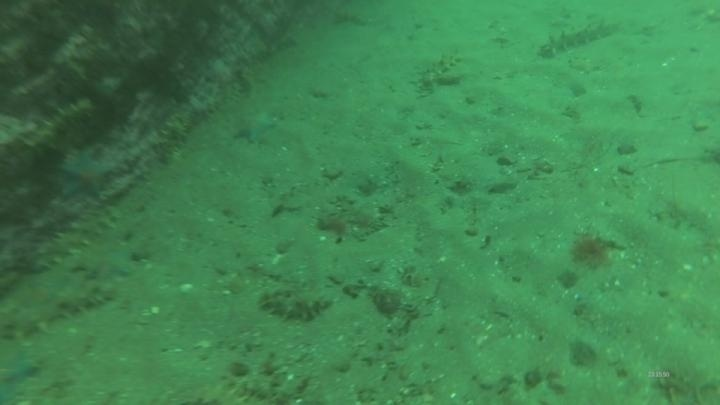holothurian: (1, 277, 118, 344), (23, 202, 122, 274), (16, 95, 101, 162), (534, 16, 620, 60), (256, 280, 337, 325), (152, 107, 195, 168), (412, 49, 466, 89), (203, 382, 284, 405)
starfish: (56, 147, 117, 203), (72, 240, 137, 285), (1, 342, 42, 404), (230, 107, 279, 147)
